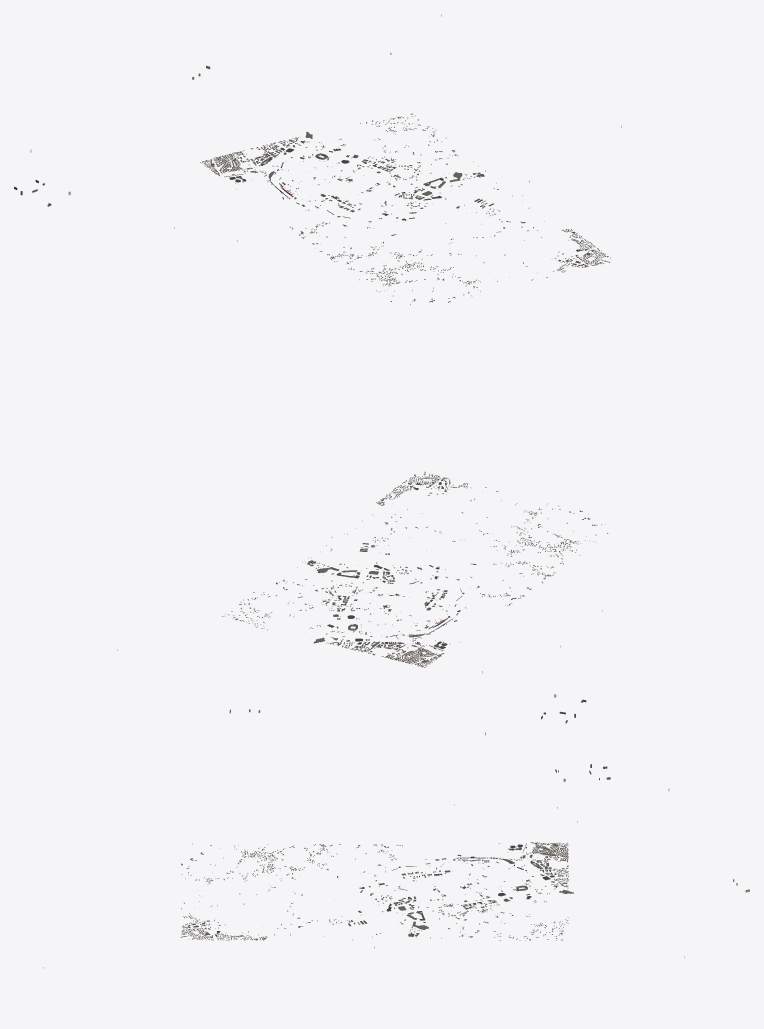
File: scenery.glb
The picture shows the model from 3 angles, top to bottom: view 1: azimuth 30°, elevation 25°; view 2: azimuth 150°, elevation 25°; view 3: azimuth 270°, elevation 25°; orthographic projection. The views are drawn at different scales.
Size of the model in its own units: 9706 by 95.69 by 12176.
